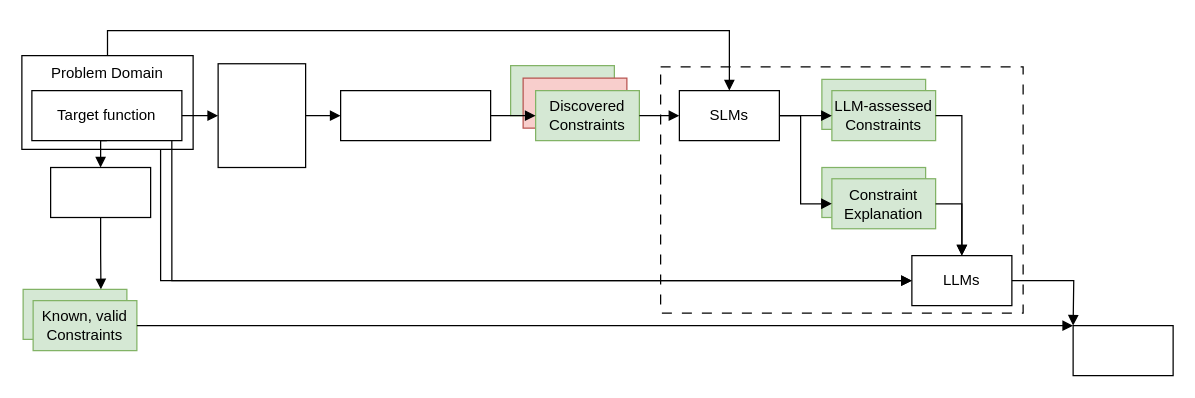
Image size: 1195x398. Some labels were removed from this diagram. The shapes that lost their labels are listed below. From the top down, each one's centre as x and y in pixels, then its label:
the point at 261,115: Benchmark data
the point at 415,115: Knowledge Extraction [2]
the point at 100,192: Symoblic Analysis
the point at 1122,350: final Validation
